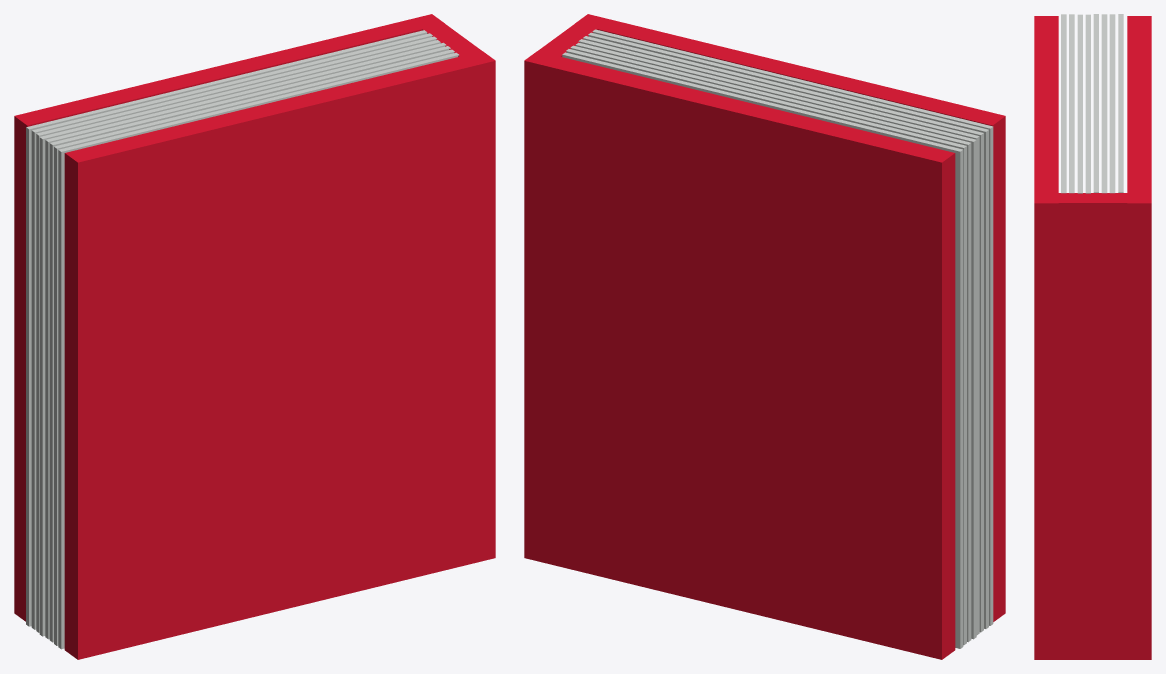
The model's file is book1.fbx.
3 renders of one model, left to right at view 1: azimuth 30°, elevation 25°; view 2: azimuth 150°, elevation 25°; view 3: azimuth 270°, elevation 25°, orthographic. The views are drawn at different scales.
Visible parts, largest first — view 1: Cube.001; view 2: Cube.001; view 3: Cube.001.
Part boxes in pixels (x1,y1,x2,y2): Cube.001: (14, 14, 495, 659); Cube.001: (524, 14, 1005, 659); Cube.001: (1034, 14, 1151, 659).
Bounding box in the file's own units: 658 × 744 × 173.
